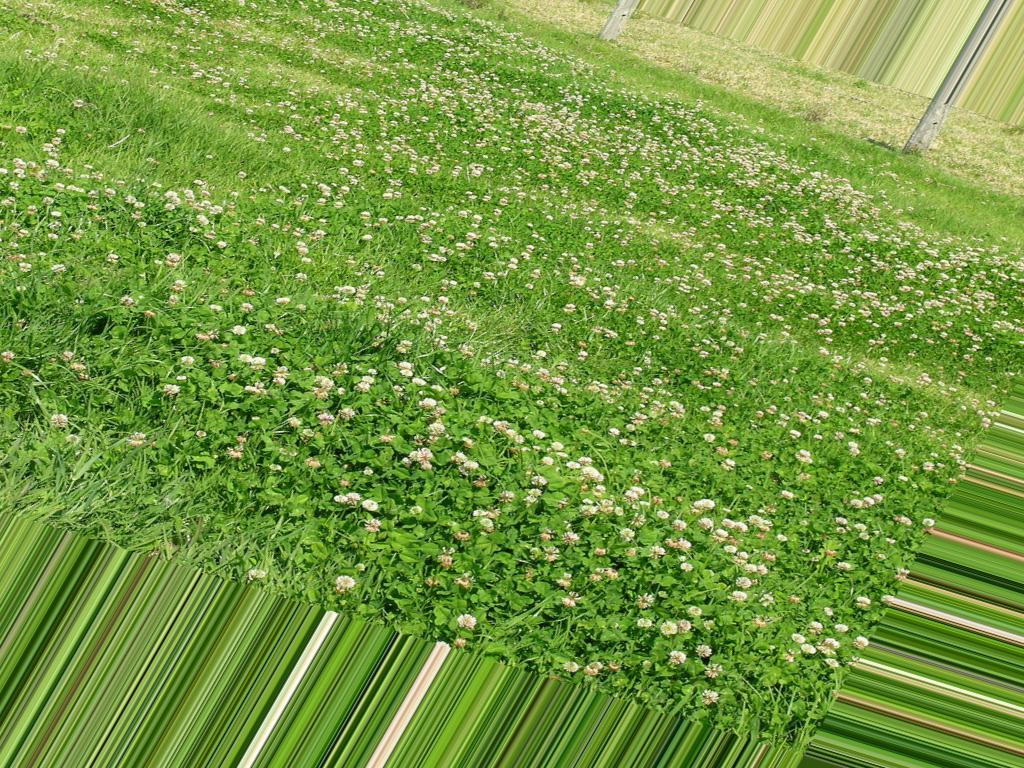patch: (664, 32, 750, 88), (755, 87, 914, 115), (963, 130, 1013, 179)
